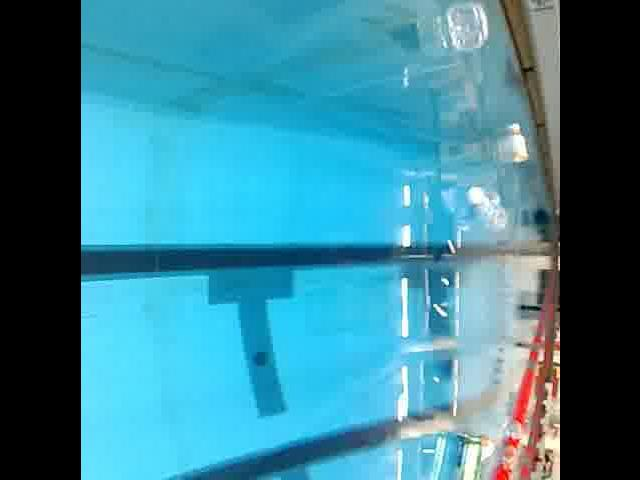Bottle: (441, 0, 495, 55), (464, 182, 509, 238), (502, 118, 530, 168)
Can: (440, 429, 486, 480)
